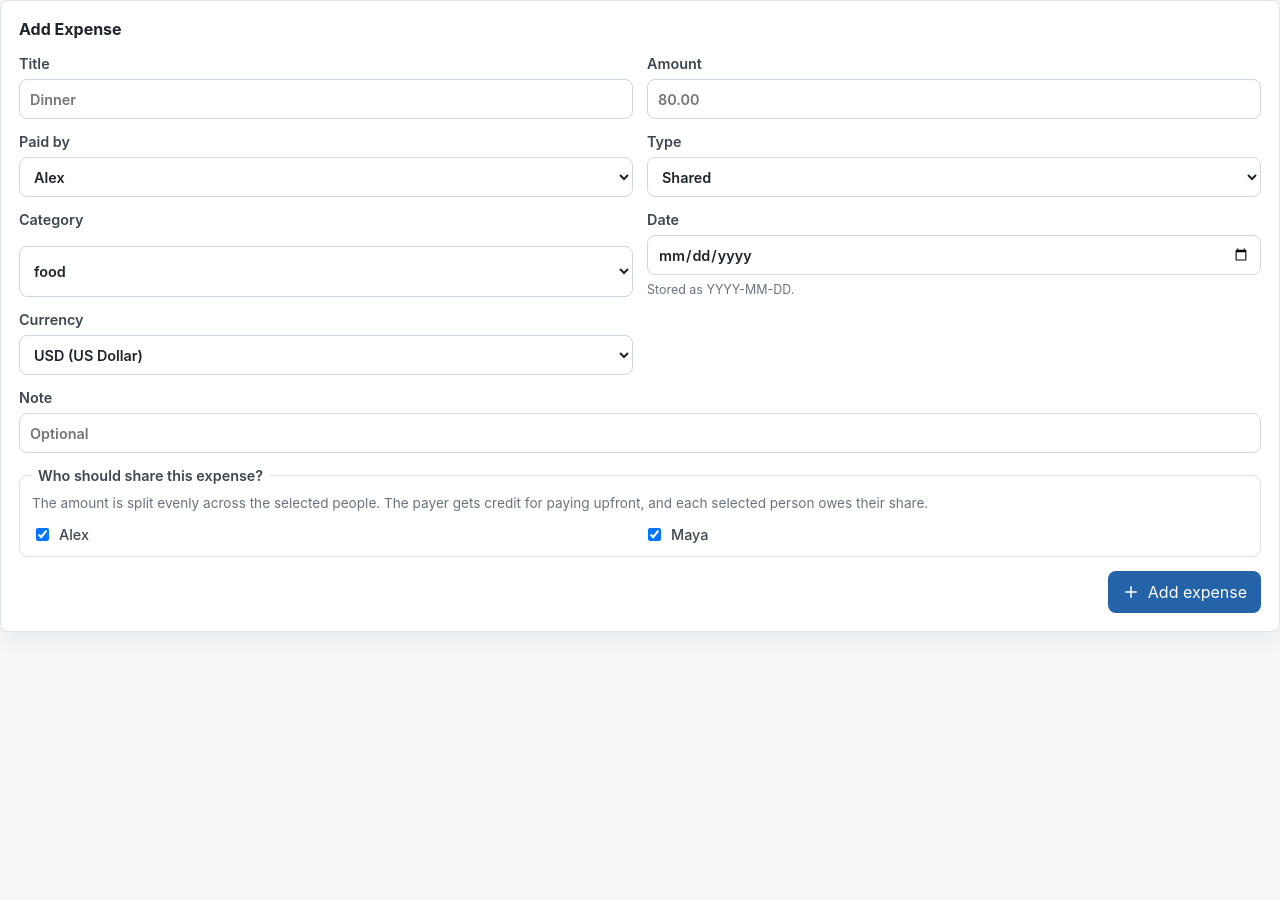
Test: ExpenseForm personal expense payer lock › locks Paid by to yourself when Type is switched to Personal
Expected: the number field labelled "Amount" is shown, [647,79,1261,119]
Select "Personal" in the dropdown labelled "Type" at (954, 177), box [647,157,1261,197]
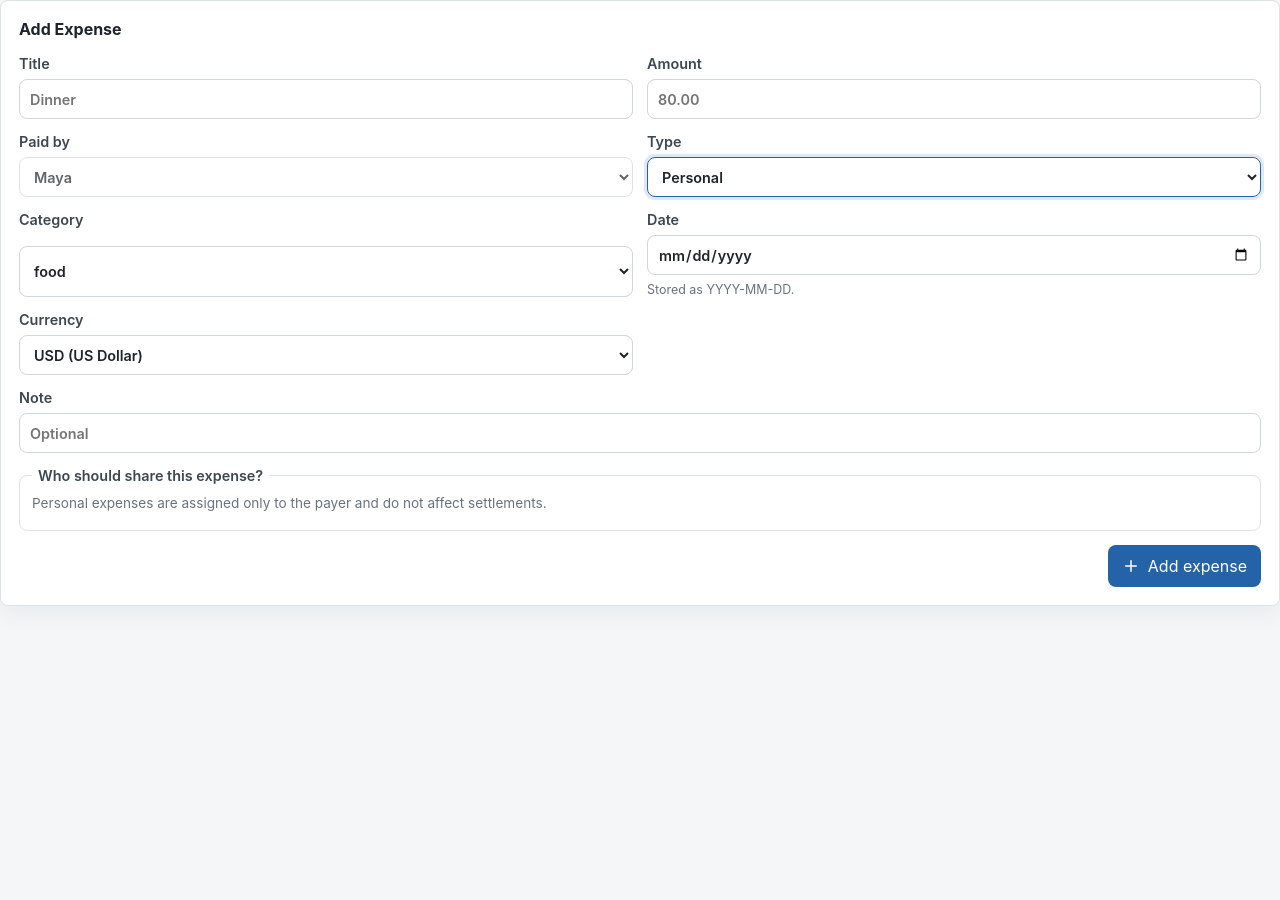
Expected: the dropdown labelled "Paid by" is disabled, [19,157,633,197]
Expected: the dropdown labelled "Paid by" shows "Maya", [19,157,633,197]
Expected: the text "Alex" is gone
